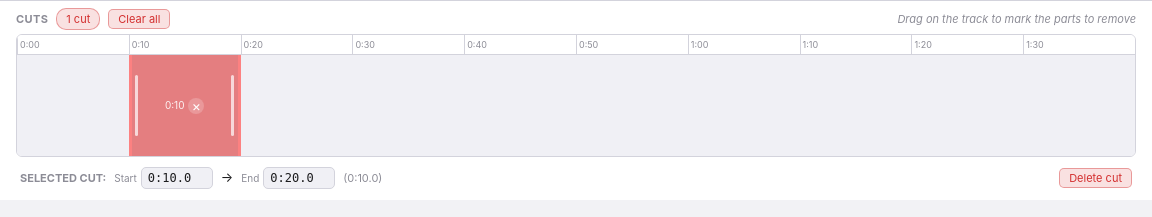
Test case: CutTimeline — coupe sélectionnée › ignore un champ laissé intact ou un texte invalide
Replace the text in the field showing "0:20.0" with "n'importe quoi": (299, 178) [263,167,335,189]
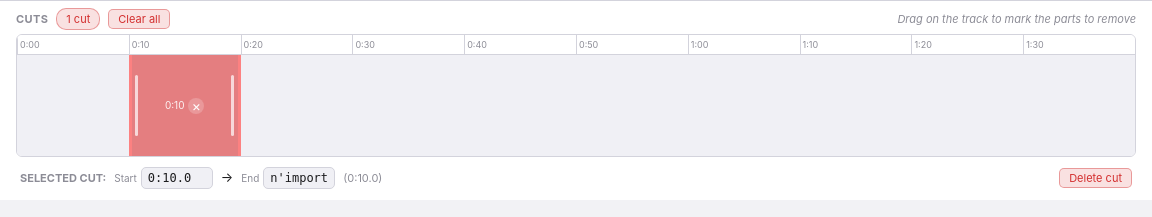
Leave the field showing "0:20.0", box [263,167,335,189]
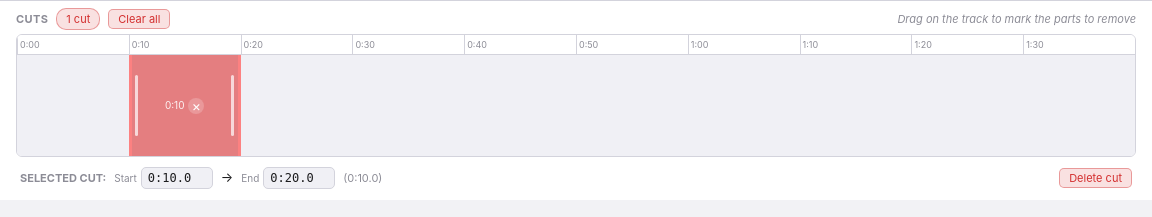
Result: the field showing "0:20.0" is shown at [263,167,335,189]
